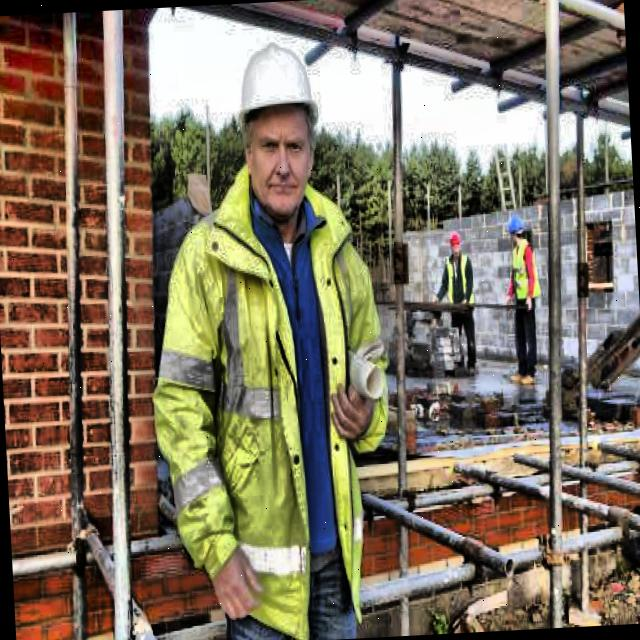helmet: (222, 30, 334, 222), (502, 212, 528, 250), (443, 223, 467, 263)
